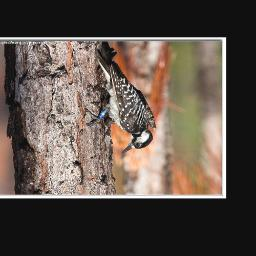Woodpecker: (76, 41, 162, 158)
